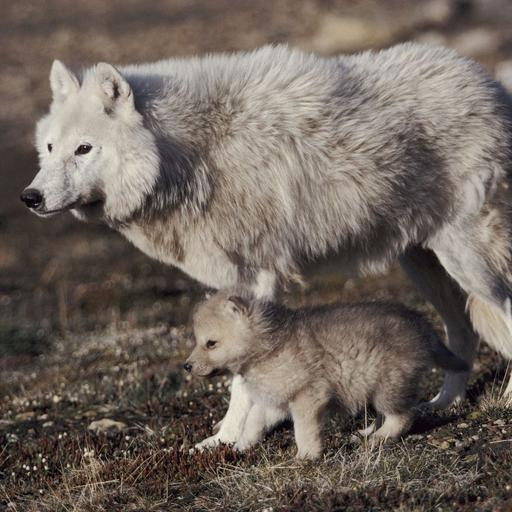Wolf: (20, 40, 512, 413), (176, 288, 485, 468)
